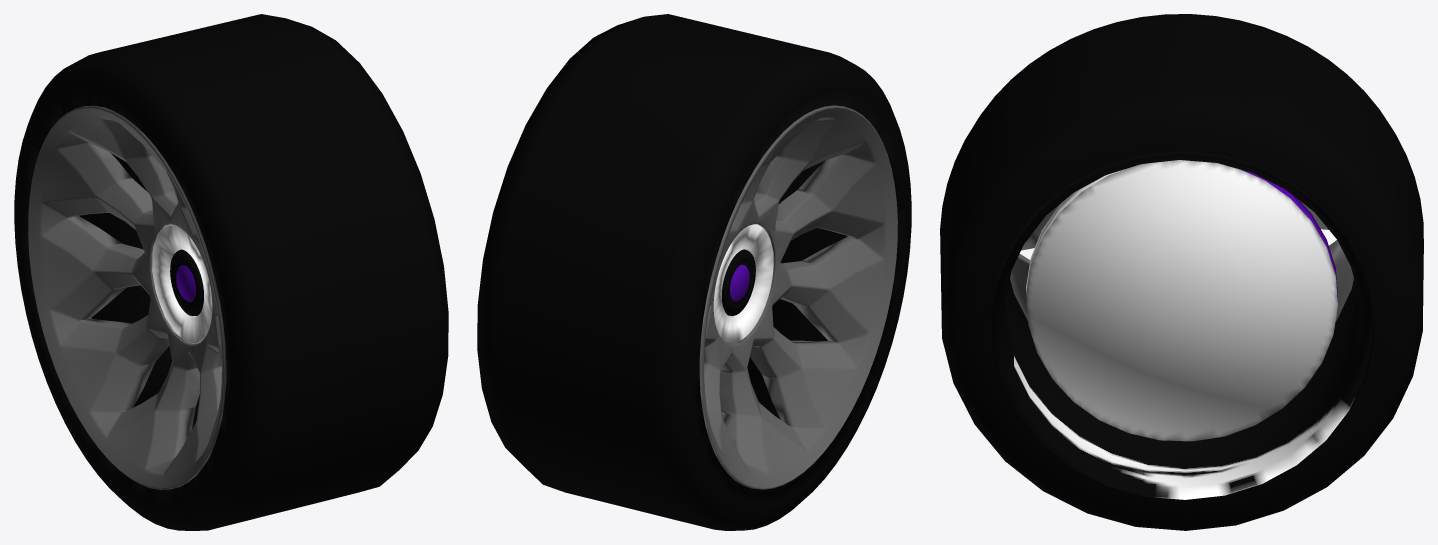
The model's file is tyre.fbx.
The picture shows the model from 3 angles, left to right: view 1: azimuth 30°, elevation 25°; view 2: azimuth 150°, elevation 25°; view 3: azimuth 270°, elevation 25°; orthographic projection.
Visible parts, largest first — view 1: Tyre; view 2: Tyre; view 3: Tyre.
Part boxes in pixels (x1,y1,x2,y2): Tyre: (14, 14, 448, 530); Tyre: (477, 14, 911, 530); Tyre: (940, 14, 1423, 530).
Bounding box in the file's own units: 44.59 × 87.93 × 87.93.
1 material, 1 textured.
